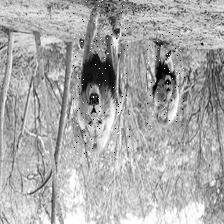Lion: (74, 0, 131, 158), (148, 31, 186, 128)
